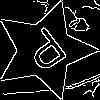P: (19, 25, 76, 82)
